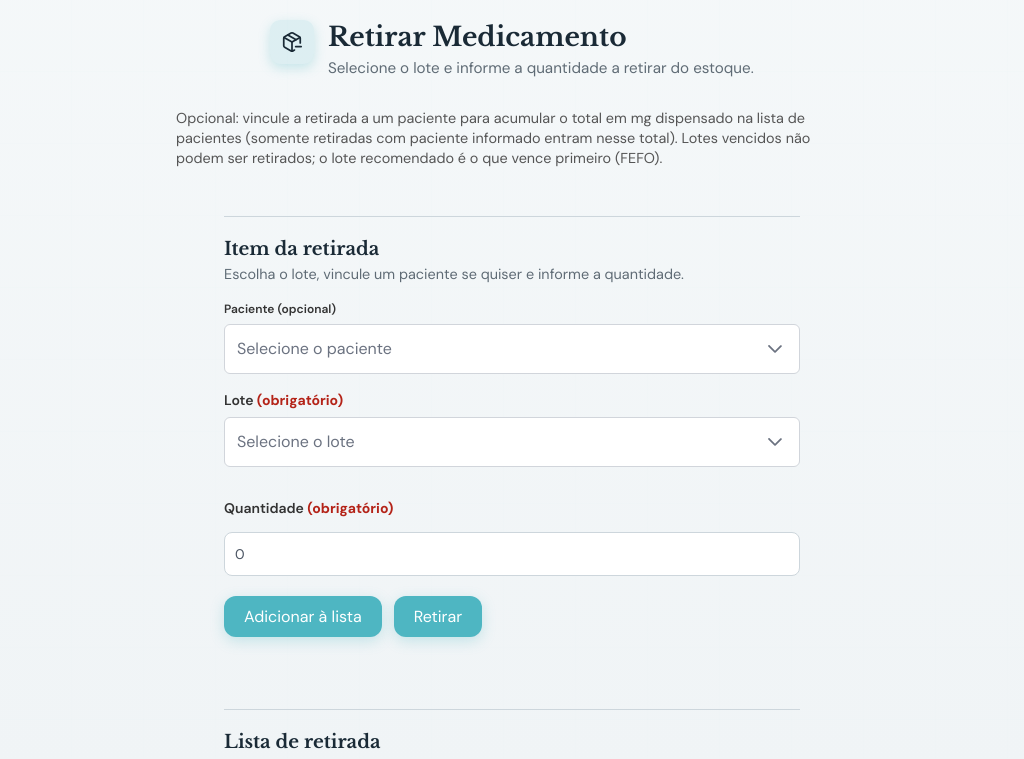
Test: RetiraMedication › depois de adicionar à lista, recarrega todos os lotes e mantém o select disponível
Step 1. Click the text "Selecione o lote" → coordinates (296, 441), box 237,431 -> 355,452
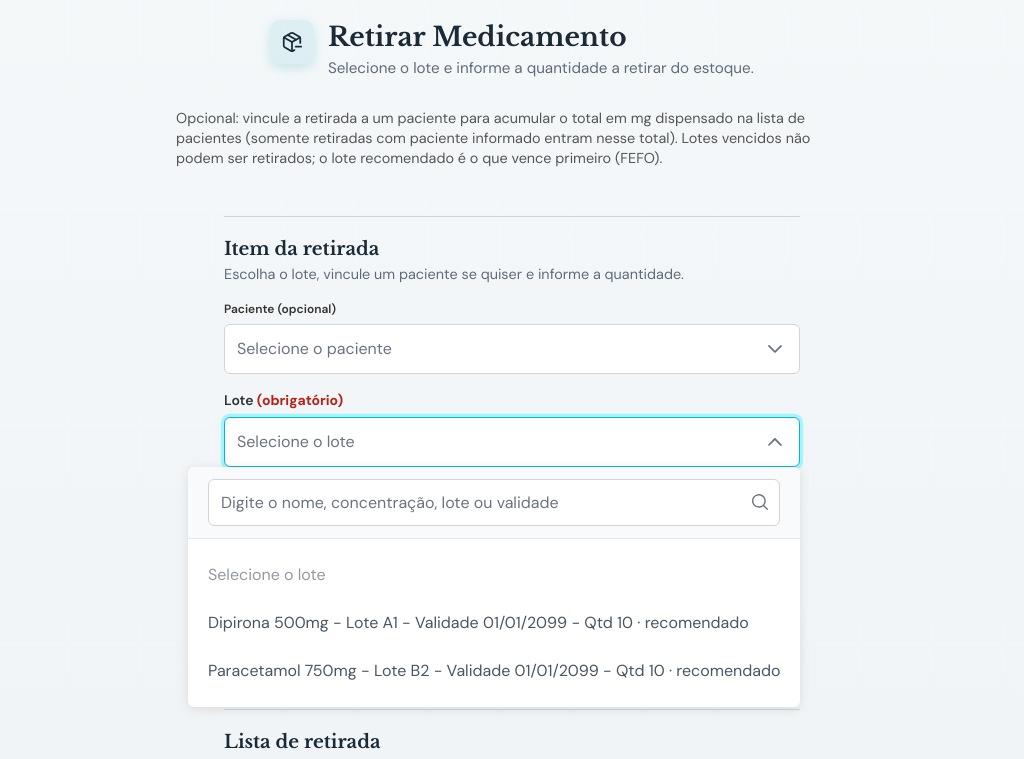
Step 2. Click the option named "Dipirona 500mg - Lote A1 - Validade 01/01/2099 - Qtd 10 · re" → coordinates (478, 622), box 208,612 -> 749,633
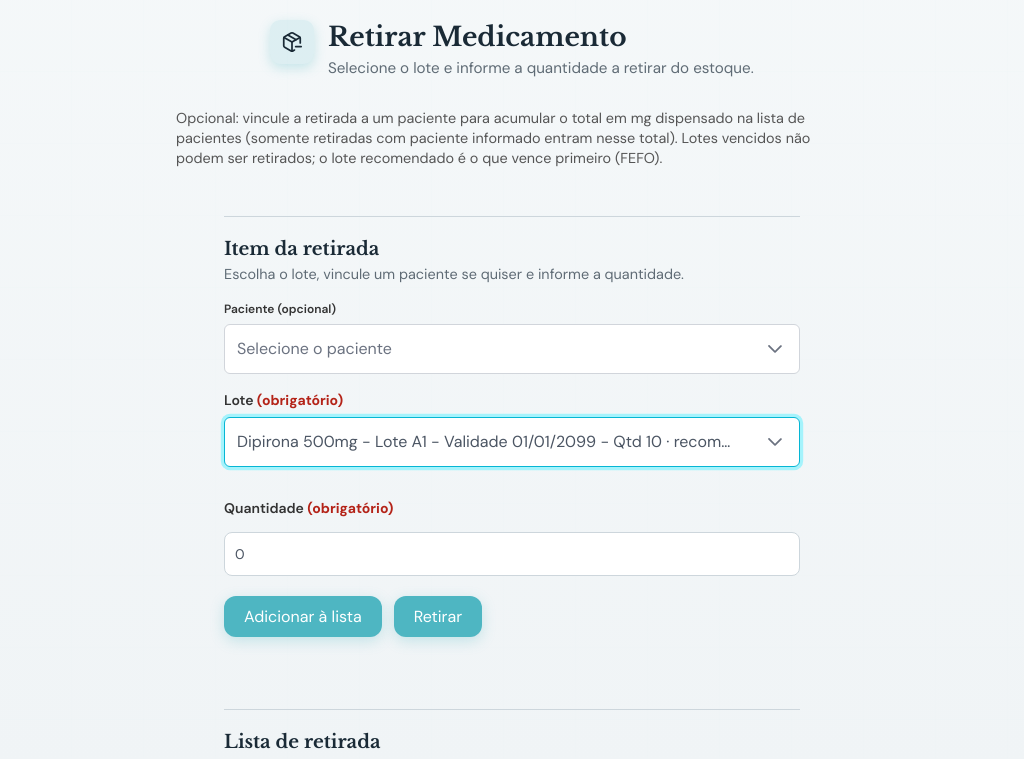
Step 3. Replace the text in the number field with placeholder "Digite a quantidade à retirar" with "1" → coordinates (512, 554), box 224,532 -> 800,576
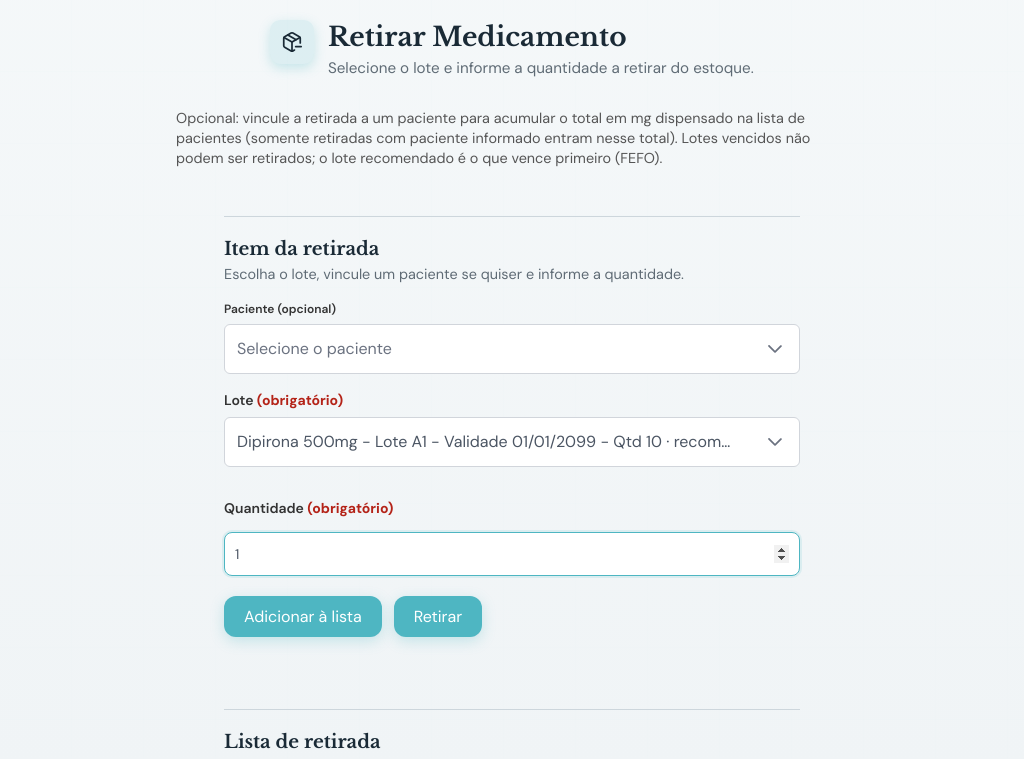
Step 4. Click the button "Adicionar à lista" → coordinates (303, 617), box 224,596 -> 382,637
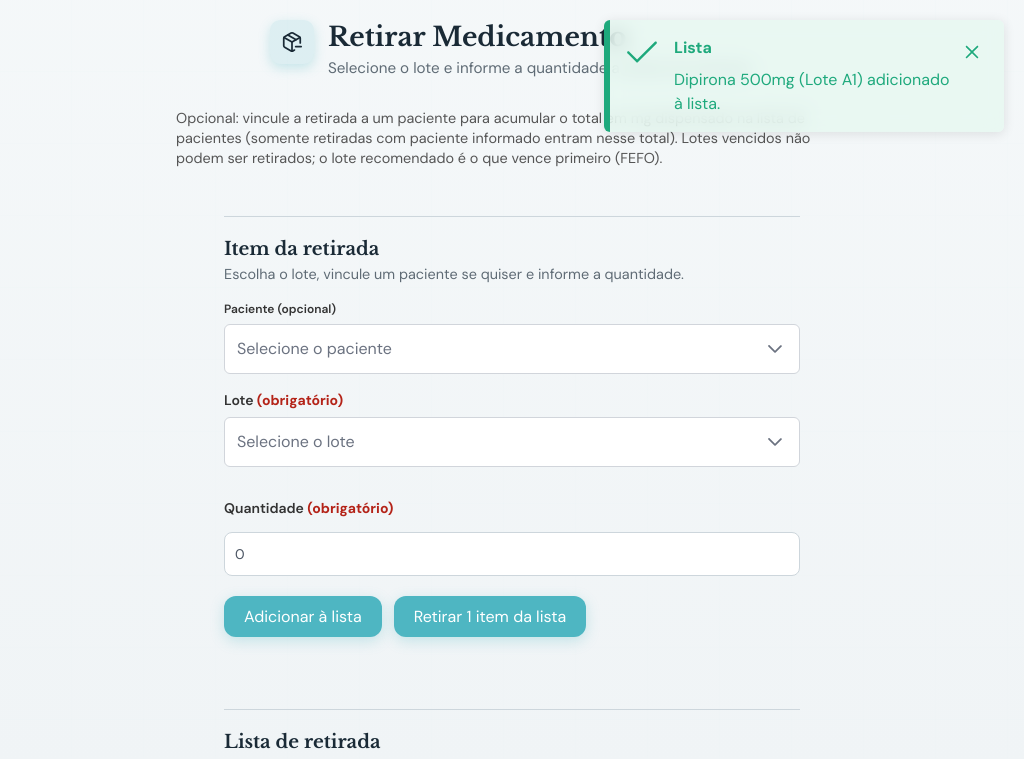
Result: the text "Dipirona 500mg (Lote A1) adicionado à lista." is shown at 674,68 -> 956,116
